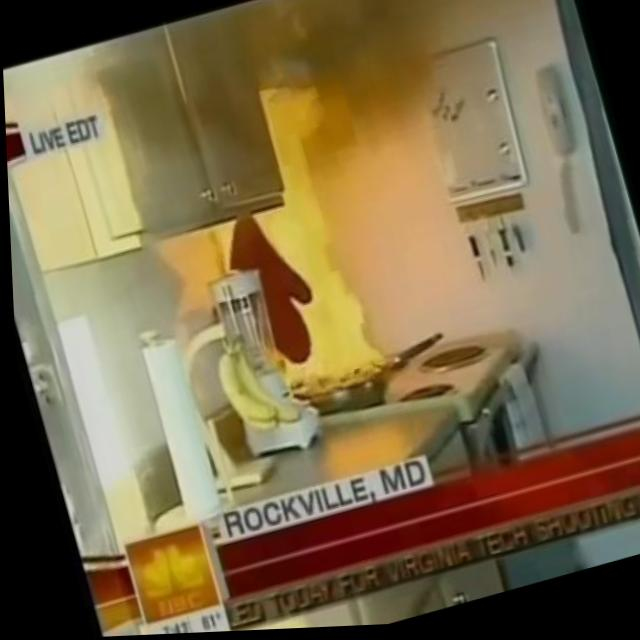fire: (200, 78, 394, 405)
